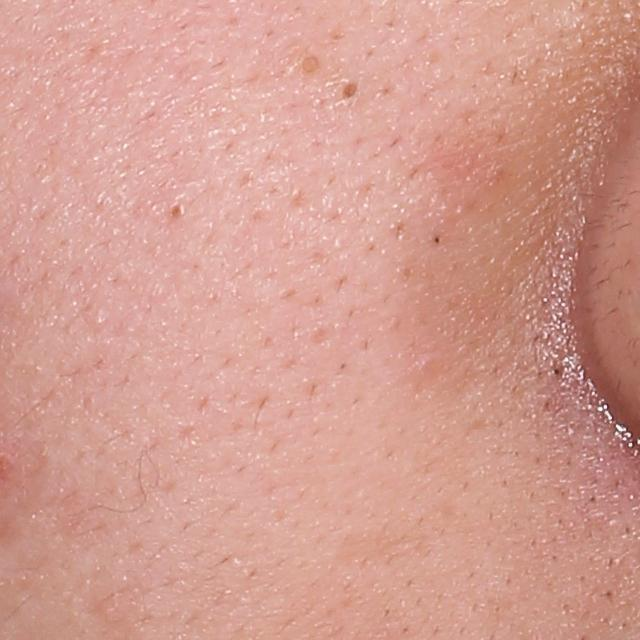comedo: (335, 76, 365, 109), (294, 50, 324, 79), (164, 198, 190, 222)
